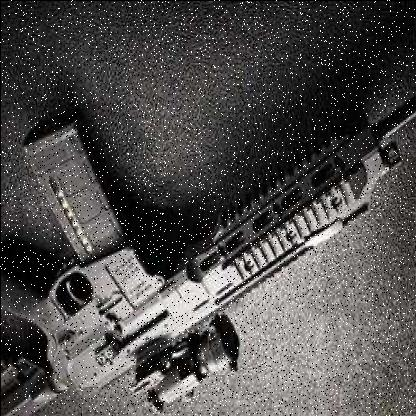rifle: (1, 75, 416, 416)
